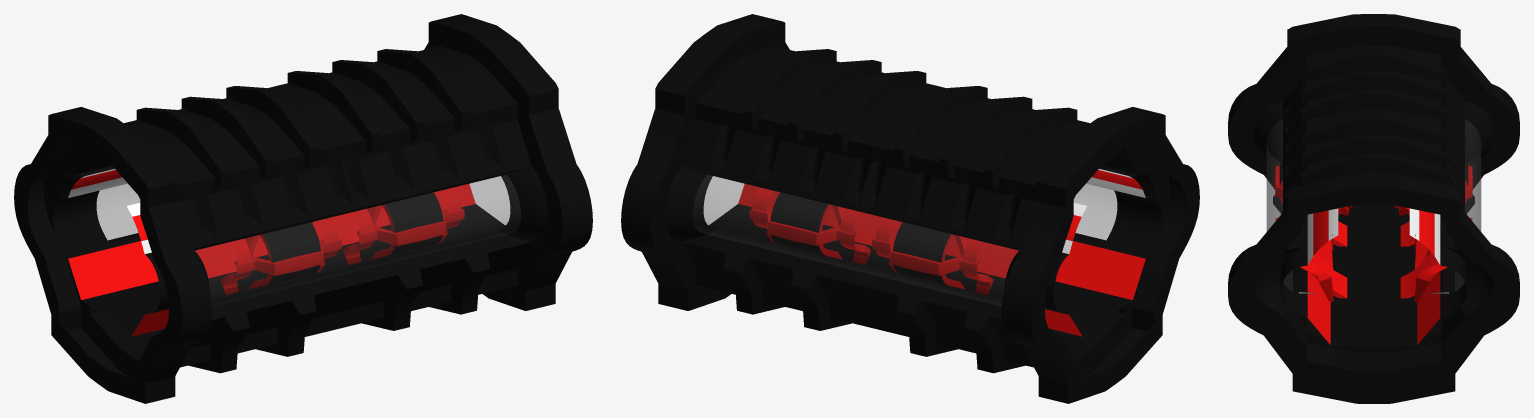
File: Connect_05.FBX
The picture shows the model from 3 angles, left to right: view 1: azimuth 30°, elevation 25°; view 2: azimuth 150°, elevation 25°; view 3: azimuth 270°, elevation 25°; orthographic projection. The views are drawn at different scales.
Parts seen in each view (by area): view 1: Connect_zer1; view 2: Connect_zer1; view 3: Connect_zer1.
Boxes of the visible parts, x1=… form: Connect_zer1: x1=14, y1=14, x2=592, y2=403; Connect_zer1: x1=621, y1=14, x2=1199, y2=403; Connect_zer1: x1=1228, y1=14, x2=1519, y2=403.
Bounding box in the file's own units: 1310 × 764 × 933.
